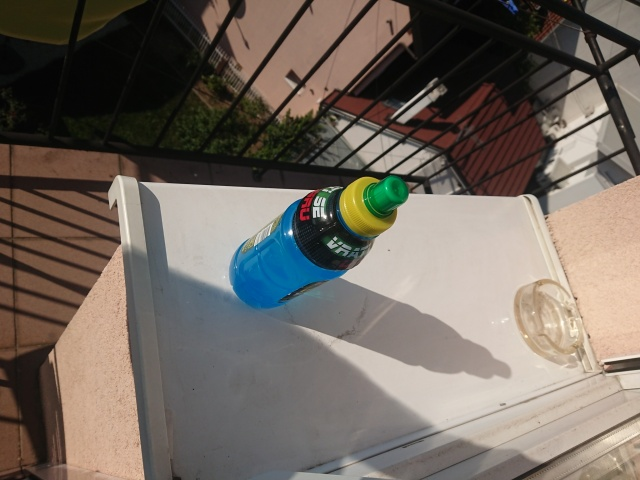Vindi Iso Sport Forest Strawberries 500mL: (226, 173, 412, 312)
